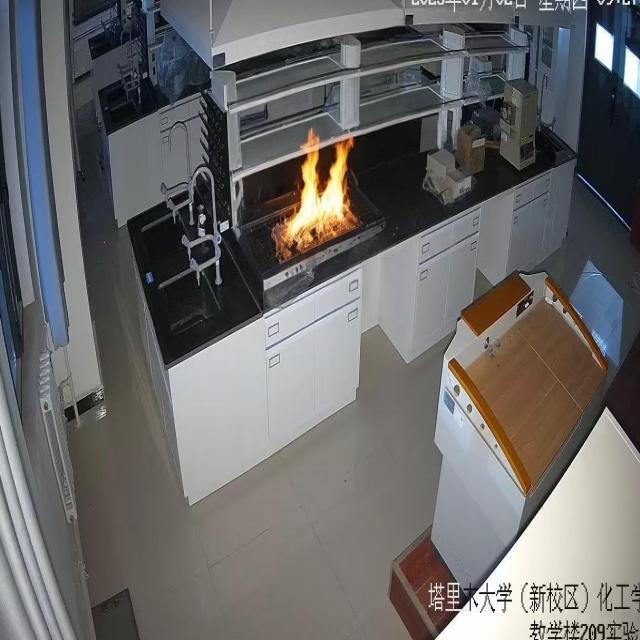smoke: (278, 130, 355, 250)
